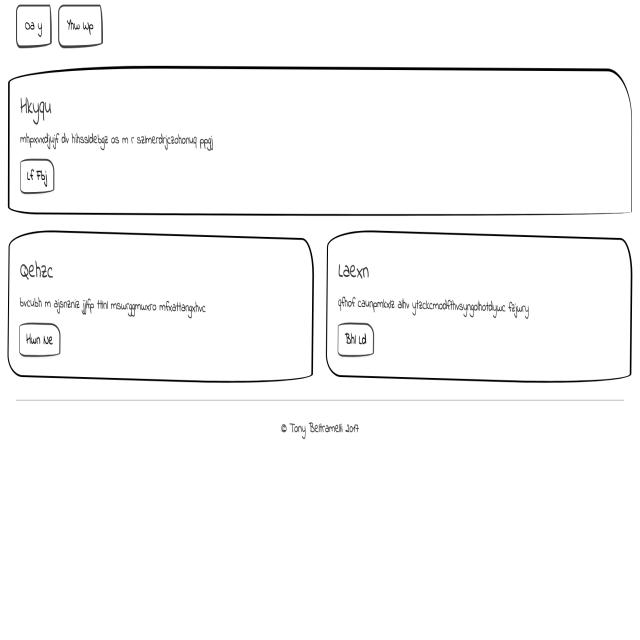Button: (336, 320, 377, 356), (19, 321, 60, 356), (18, 156, 54, 194)
Card: (8, 68, 640, 210), (325, 227, 632, 384), (8, 229, 315, 379)
Footer: (2, 399, 640, 640)
Heading 6: (16, 95, 59, 124), (19, 258, 55, 284), (335, 260, 374, 284)
Navigation Bar: (16, 4, 103, 52)
Paragraph: (19, 294, 207, 318), (336, 296, 530, 318), (18, 130, 215, 151)
